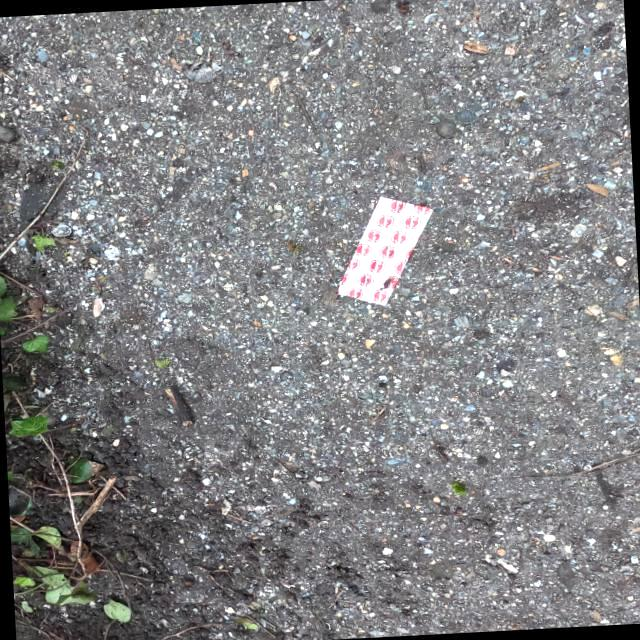Paper: (334, 193, 436, 307)
